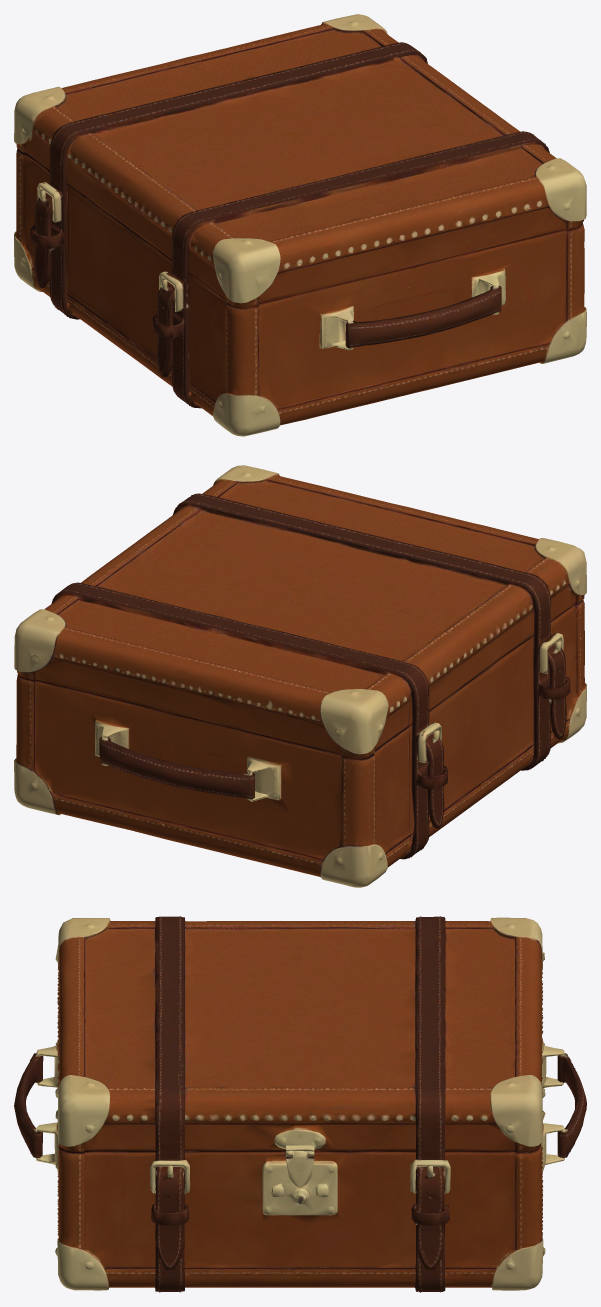
The model's file is trunk-base.glb.
3 renders of one model, top to bottom at view 1: azimuth 30°, elevation 25°; view 2: azimuth 150°, elevation 25°; view 3: azimuth 270°, elevation 25°, orthographic. The views are drawn at different scales.
Size of the model in its own units: 1.77 by 0.7782 by 2.
1 material, 1 textured.
